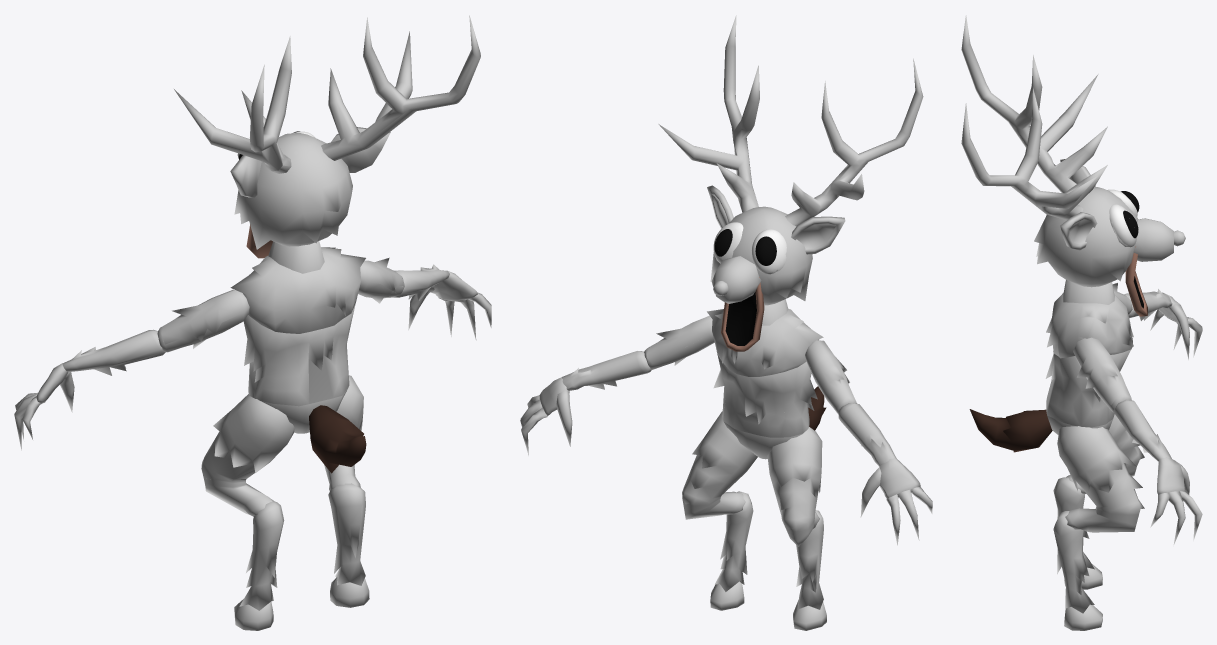
File: deer fbx.fbx
The picture shows the model from 3 angles, left to right: view 1: azimuth 30°, elevation 25°; view 2: azimuth 150°, elevation 25°; view 3: azimuth 270°, elevation 25°; orthographic projection. The views are drawn at different scales.
Visible parts, largest first — view 1: MidTorso; view 2: MidTorso; view 3: MidTorso.
Boxes of the visible parts, <box> form: MidTorso: <box>14,15,491,630</box>; MidTorso: <box>520,15,932,630</box>; MidTorso: <box>961,15,1202,630</box>.
Bounding box in the file's own units: 1850 × 2336 × 935.
